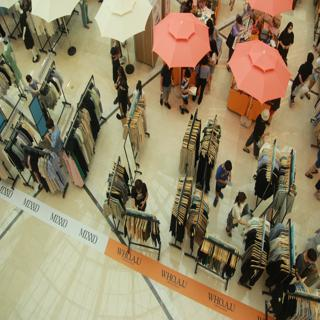person: (216, 149, 234, 210), (130, 178, 156, 216), (234, 188, 251, 241), (110, 44, 128, 88), (252, 107, 266, 156)
